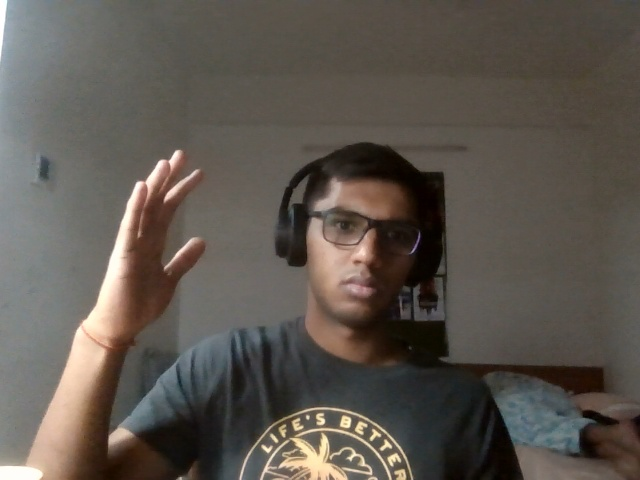hello: (88, 144, 232, 340)
